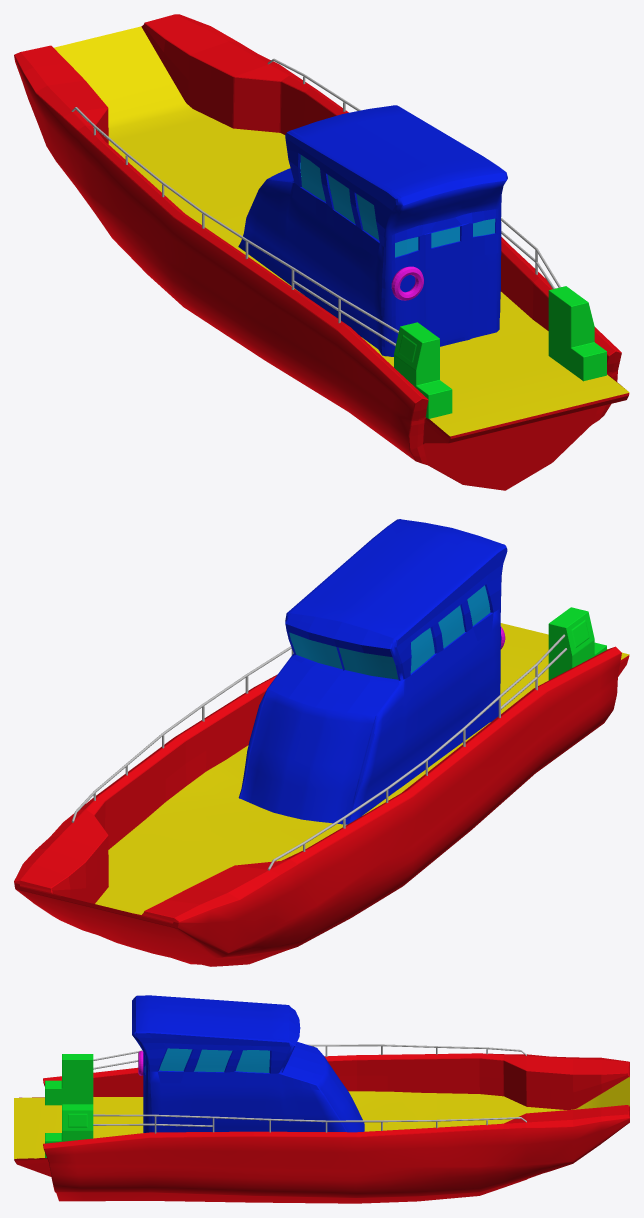
The model's file is Boat_UVBase8.fbx.
The picture shows the model from 3 angles, top to bottom: view 1: azimuth 30°, elevation 25°; view 2: azimuth 150°, elevation 25°; view 3: azimuth 270°, elevation 25°; orthographic projection. The views are drawn at different scales.
Visible parts, largest first — view 1: Hull, Cockpit.001, Floor, Cube, Aita.001, SideWindows, BackWindows, Lifeguard; view 2: Hull, Cockpit.001, Floor, Aita.001, Cube, FrontWindows, SideWindows; view 3: Hull, Cockpit.001, Floor, Cube, Aita.001, SideWindows.
Part boxes in pixels (x1,y1,x2,y2): Hull: (14,14,629,490); Cockpit.001: (238,105,507,356); Floor: (54,26,629,436); Cube: (394,286,606,418); Aita.001: (71,58,560,346); SideWindows: (300,155,379,240); BackWindows: (395,218,495,257); Lifeguard: (391,266,423,300); Hull: (14,646,629,966); Cockpit.001: (238,519,507,824); Floor: (95,623,629,914); Aita.001: (71,634,567,870); Cube: (548,607,606,680); FrontWindows: (289,632,398,679); SideWindows: (410,585,490,673); Hull: (14,1053,629,1203); Cockpit.001: (132,995,364,1132); Floor: (14,1077,629,1158); Cube: (45,1054,93,1157); Aita.001: (93,1044,526,1133); SideWindows: (159,1048,269,1072).
Size of the model in its own units: 433 by 464 by 1377.
